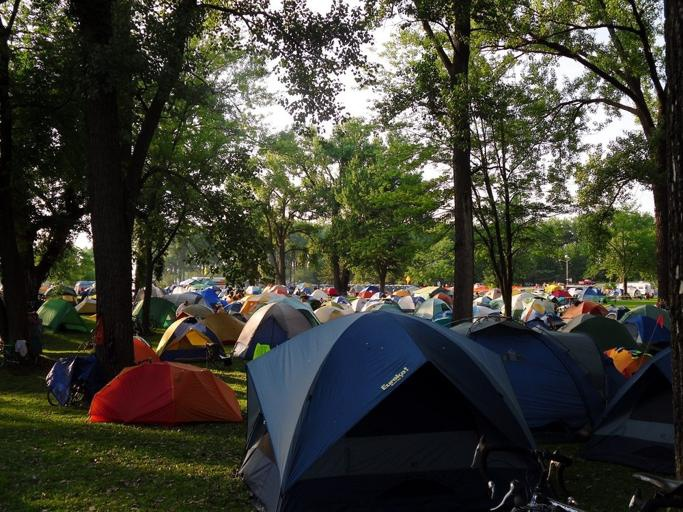non-vehicle: (476, 435, 681, 511), (45, 356, 86, 405)
